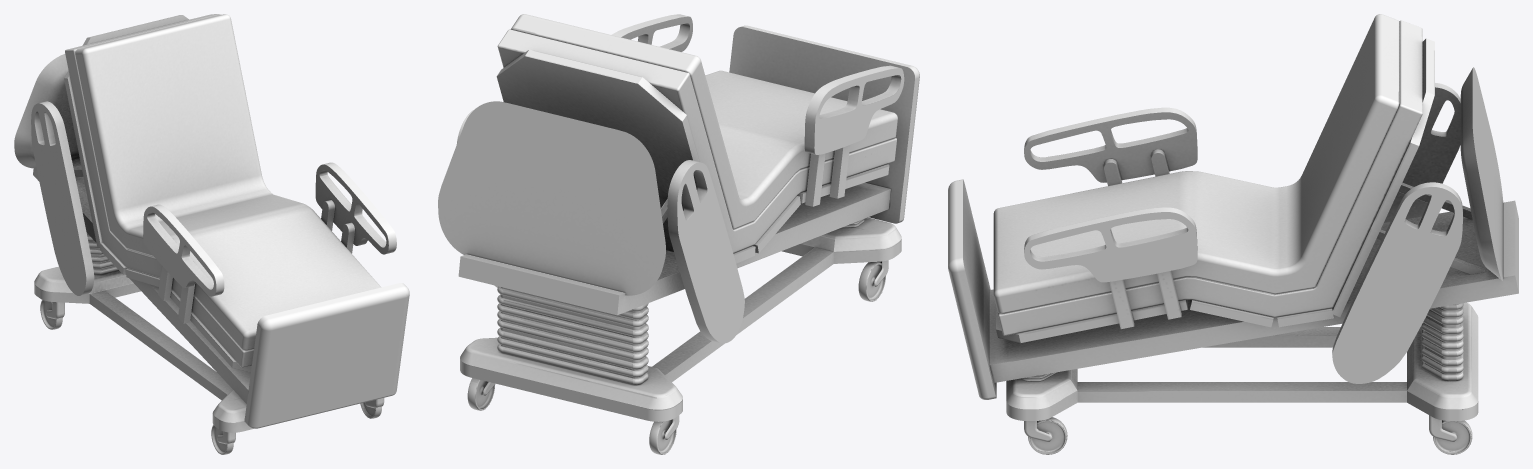
File: HospitalBed.glb
3 renders of one model, left to right at view 1: azimuth 30°, elevation 25°; view 2: azimuth 150°, elevation 25°; view 3: azimuth 270°, elevation 25°, orthographic. The views are drawn at different scales.
Parts seen in each view (by area): view 1: object21; view 2: object21; view 3: object21.
Part boxes in pixels (box(x1,y1,x2,y2)): object21: box(14, 14, 409, 454); object21: box(438, 14, 919, 454); object21: box(948, 14, 1518, 454).
Bounding box in the file's own units: 1.02 × 1.58 × 2.29.
Materials: 1 (1 with a texture image).
